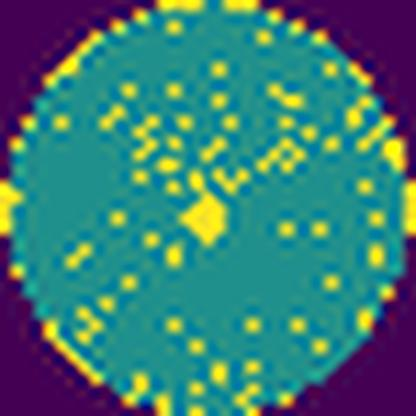Center: (174, 182, 228, 252)
